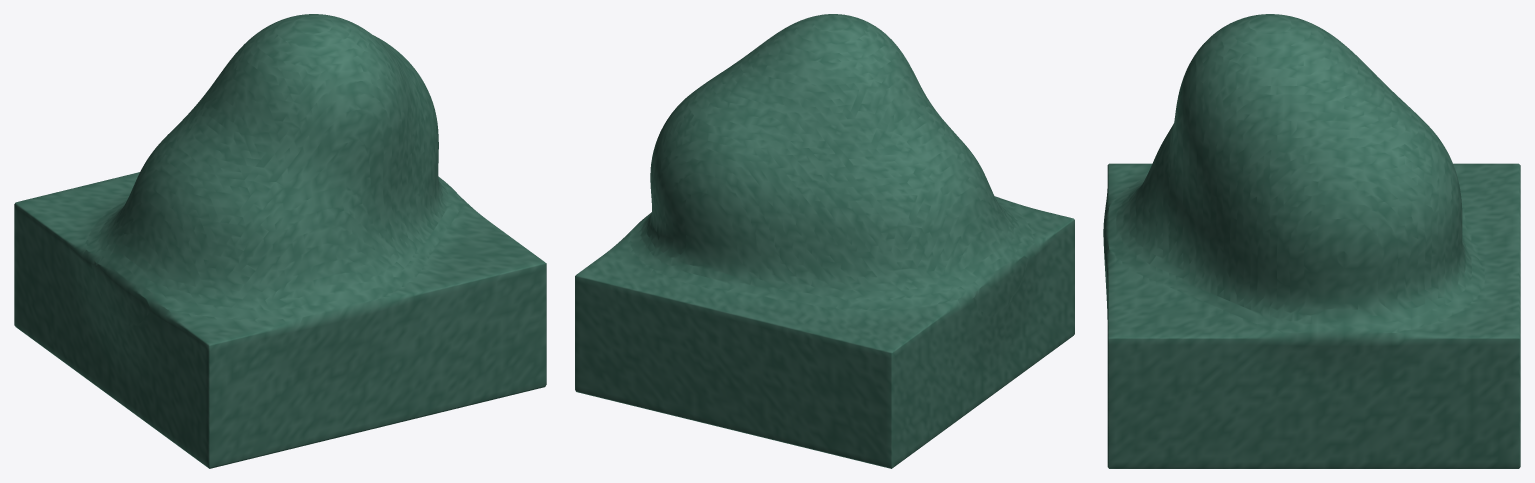
The model's file is cliff.glb.
3 views of the same model, side by side, from view 1: azimuth 30°, elevation 25°; view 2: azimuth 150°, elevation 25°; view 3: azimuth 270°, elevation 25° (orthographic). The views are drawn at different scales.
Parts seen in each view (by area): view 1: cliff; view 2: cliff; view 3: cliff.
Part boxes in pixels (box(x1,y1,x2,y2)): cliff: box(14, 14, 546, 468); cliff: box(575, 14, 1074, 468); cliff: box(1103, 14, 1520, 468).
Size of the model in its own units: 2.89 by 2.79 by 2.83.
